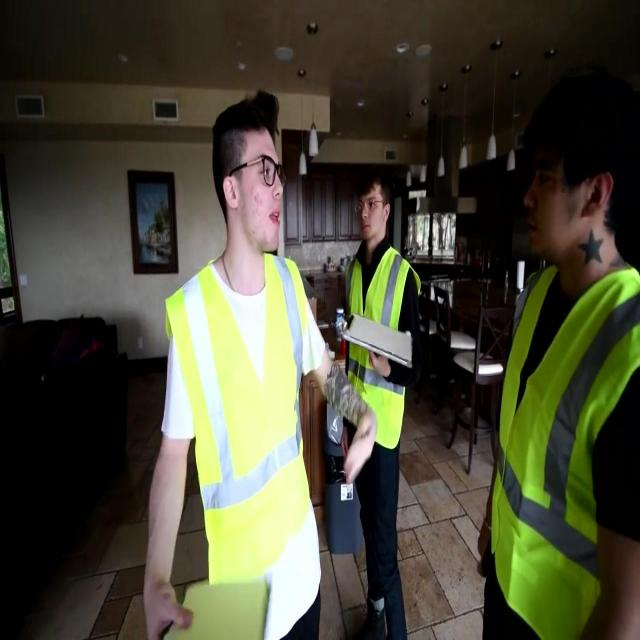Reflective-Jacket: (487, 258, 640, 640), (161, 254, 321, 602), (341, 242, 421, 452)
